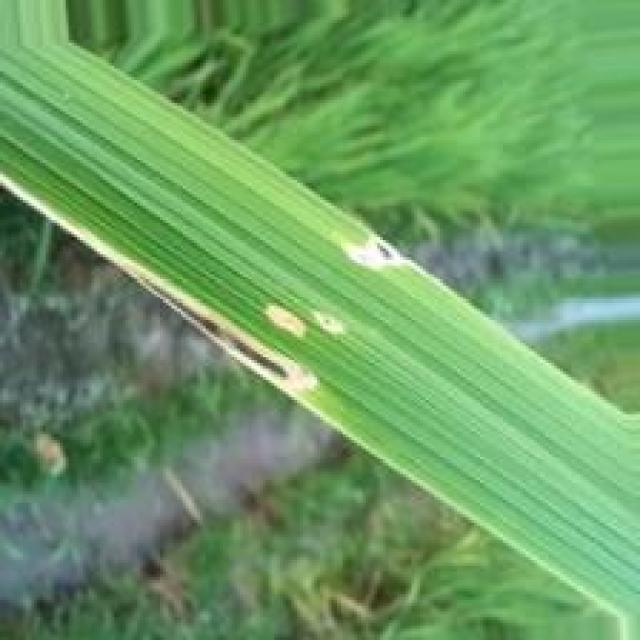Rice_Hispa: (0, 167, 328, 392), (350, 242, 396, 271), (269, 304, 306, 332), (312, 310, 346, 335)
